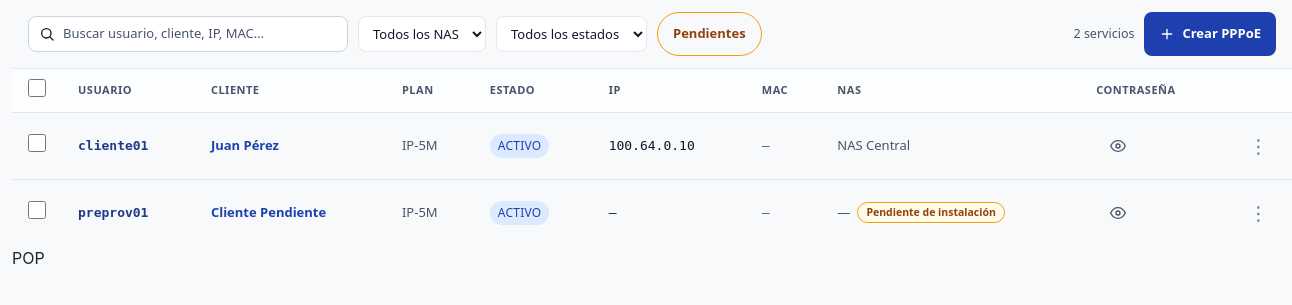
Test: S5.3: filtro rápido "Pendientes" (server-side, round-trip URL) › click en el chip manda pending=true al listado (page 1) y escribe pppoe_pending=1 en la URL
This screenshot has width=1292, height=305.
Step 1. Click the button "Pendientes" → [709, 34], box [657,12,762,56]
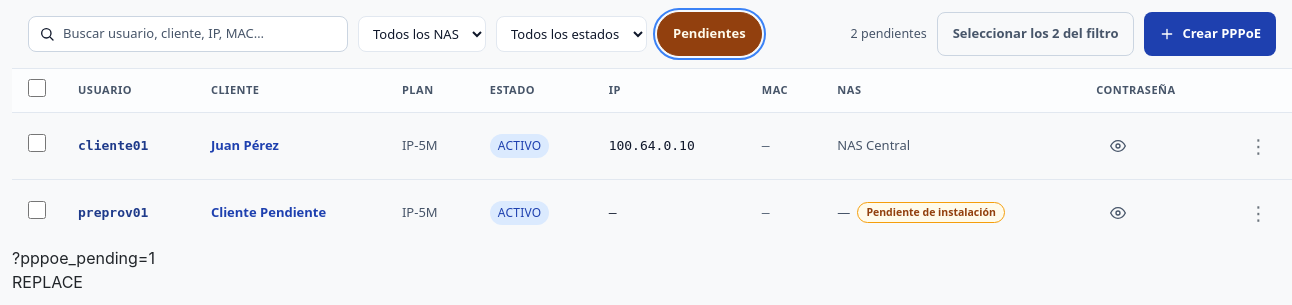
Now the text with test id "location-search" shows "pppoe_pending=1", box [12,248,155,268]
